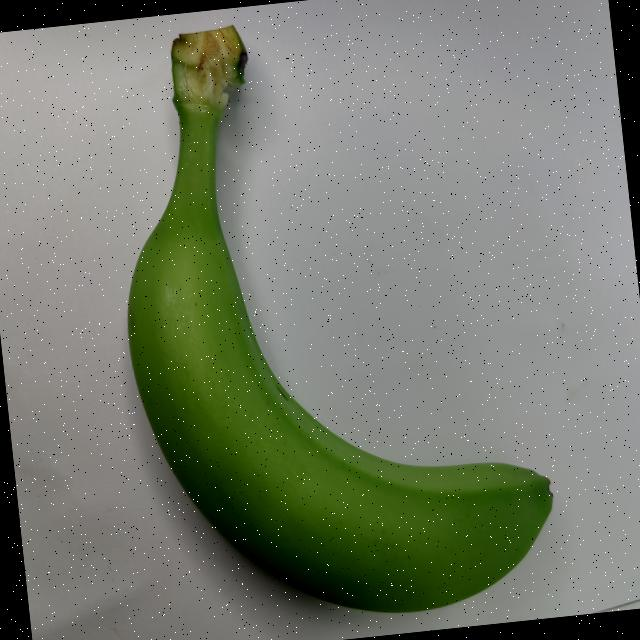Raw: (80, 0, 590, 640)
